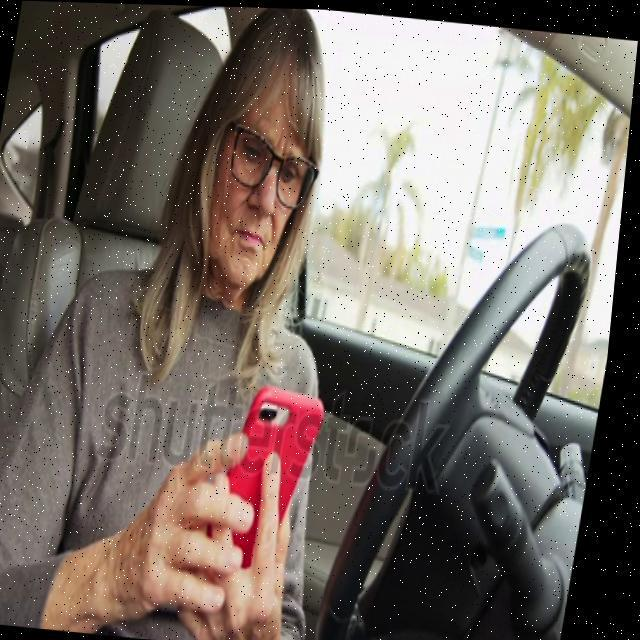PhoneCall: (216, 380, 334, 584)
